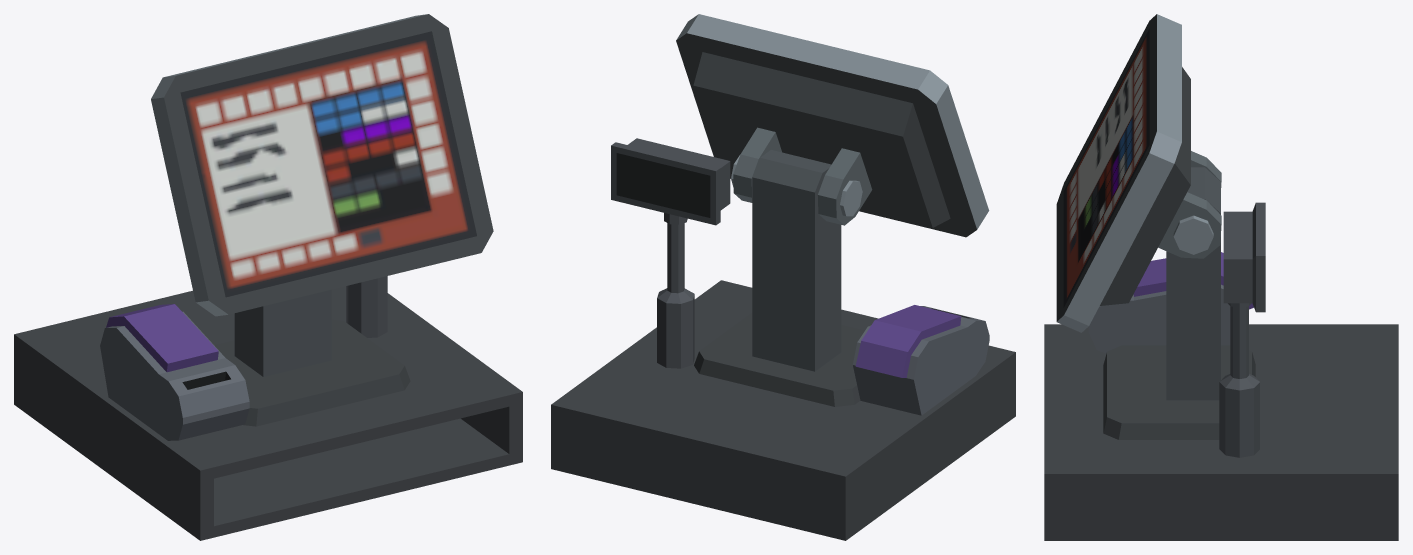
Rendered from SM_Prop_Shop_Cash_Register_01.obj.
The picture shows the model from 3 angles, left to right: view 1: azimuth 30°, elevation 25°; view 2: azimuth 150°, elevation 25°; view 3: azimuth 270°, elevation 25°; orthographic projection. The views are drawn at different scales.
Parts seen in each view (by area): view 1: SM_Prop_Shop_Cash_Register_01_0; view 2: SM_Prop_Shop_Cash_Register_01_0; view 3: SM_Prop_Shop_Cash_Register_01_0.
Boxes of the visible parts, x1,y1,x2,y2 form: SM_Prop_Shop_Cash_Register_01_0: (14, 14, 522, 540); SM_Prop_Shop_Cash_Register_01_0: (551, 14, 1015, 540); SM_Prop_Shop_Cash_Register_01_0: (1044, 14, 1398, 540).
Size of the model in its own units: 0.66 by 0.7977 by 0.6513.
Materials: 1 (1 with a texture image).
